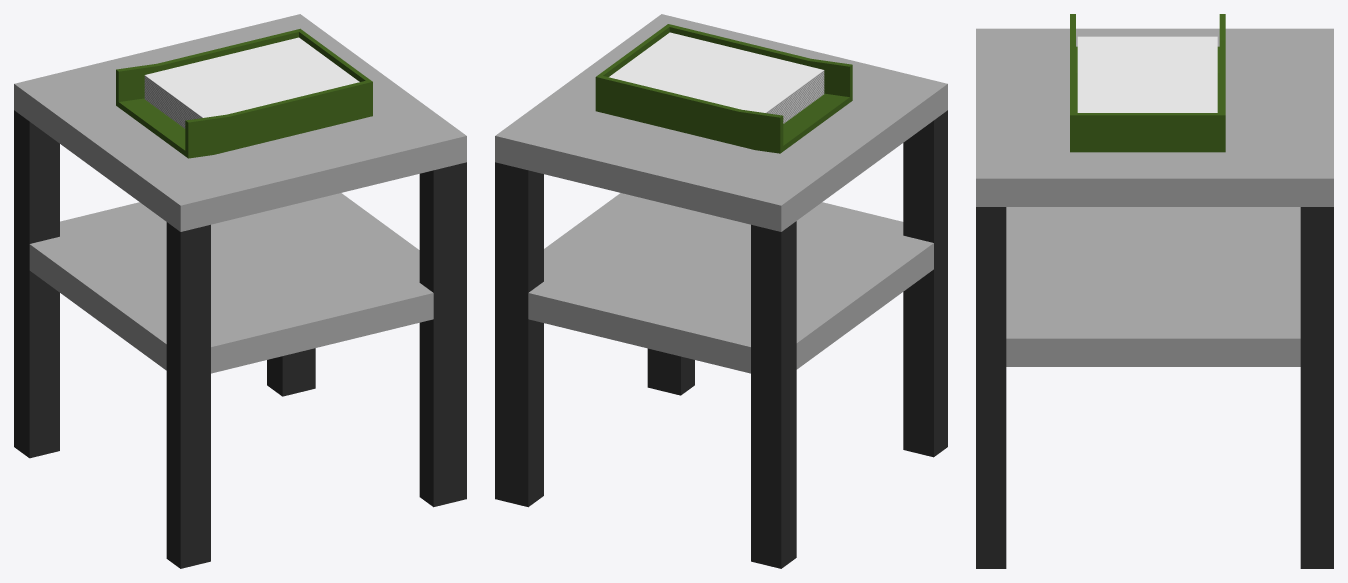
File: Paper table.fbx
3 views of the same model, side by side, from view 1: azimuth 30°, elevation 25°; view 2: azimuth 150°, elevation 25°; view 3: azimuth 270°, elevation 25° (orthographic). The views are drawn at different scales.
Parts seen in each view (by area): view 1: Cube.015, Cube.016, Cube.017; view 2: Cube.015, Cube.016, Cube.017; view 3: Cube.015, Cube.017, Cube.016.
Boxes of the visible parts, x1,y1,x2,y2 form: Cube.015: [14, 14, 466, 568]; Cube.016: [116, 28, 372, 158]; Cube.017: [144, 37, 359, 128]; Cube.015: [495, 14, 947, 568]; Cube.016: [595, 24, 852, 153]; Cube.017: [609, 32, 824, 123]; Cube.015: [976, 28, 1333, 568]; Cube.017: [1077, 36, 1217, 112]; Cube.016: [1070, 14, 1225, 152].
Bounding box in the file's own units: 564 × 757 × 568.
